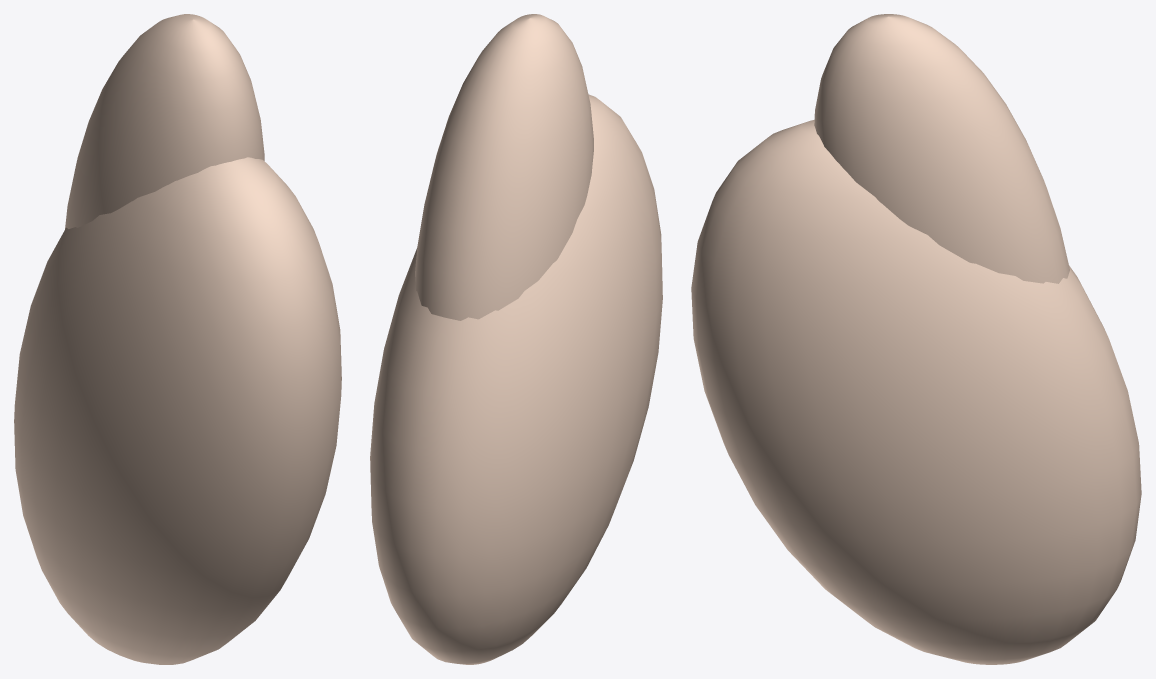
3 views of the same model, side by side, from view 1: azimuth 30°, elevation 25°; view 2: azimuth 150°, elevation 25°; view 3: azimuth 270°, elevation 25° (orthographic). The views are drawn at different scales.
Parts seen in each view (by area): view 1: Nose_Tip, Nose_Bridge; view 2: Nose_Tip, Nose_Bridge; view 3: Nose_Tip, Nose_Bridge.
Boxes of the visible parts, left/top/right/bottom form: Nose_Tip: left=14, top=157, right=341, bottom=664; Nose_Bridge: left=65, top=14, right=264, bottom=228; Nose_Tip: left=370, top=94, right=662, bottom=664; Nose_Bridge: left=415, top=14, right=593, bottom=320; Nose_Tip: left=691, top=119, right=1141, bottom=664; Nose_Bridge: left=814, top=14, right=1069, bottom=283.
Bounding box in the file's own units: 0.024 × 0.067 × 0.0425.
